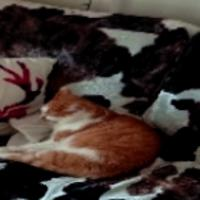asleep: (0, 83, 170, 180)
